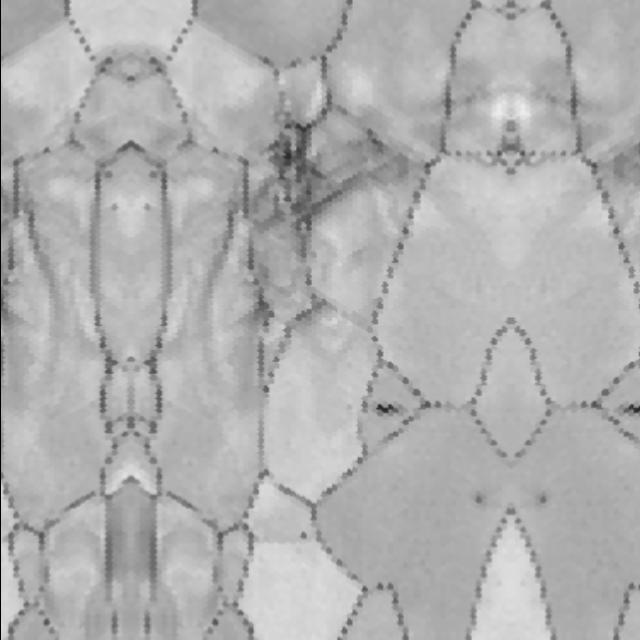good_void: (224, 113, 417, 261), (250, 299, 275, 329), (371, 398, 407, 417), (615, 398, 640, 417), (0, 299, 11, 328), (472, 490, 486, 507), (536, 490, 550, 507), (297, 529, 310, 542), (148, 169, 158, 179), (103, 169, 113, 179), (141, 202, 152, 211), (109, 202, 119, 211)
